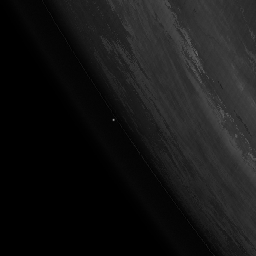Target: (111, 117, 115, 121)
